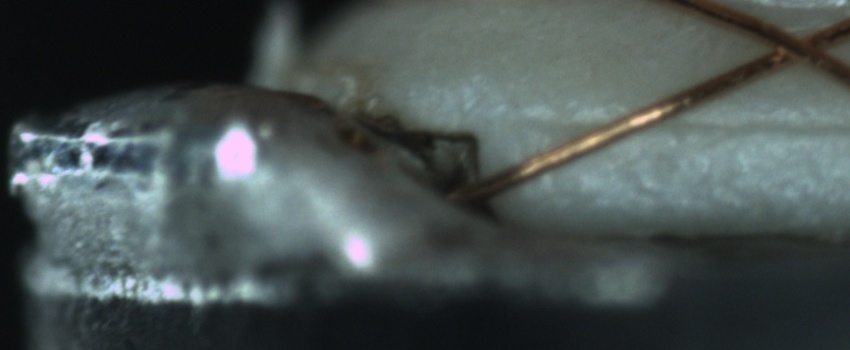CL: (746, 15, 843, 77)
DL: (522, 92, 849, 157)
